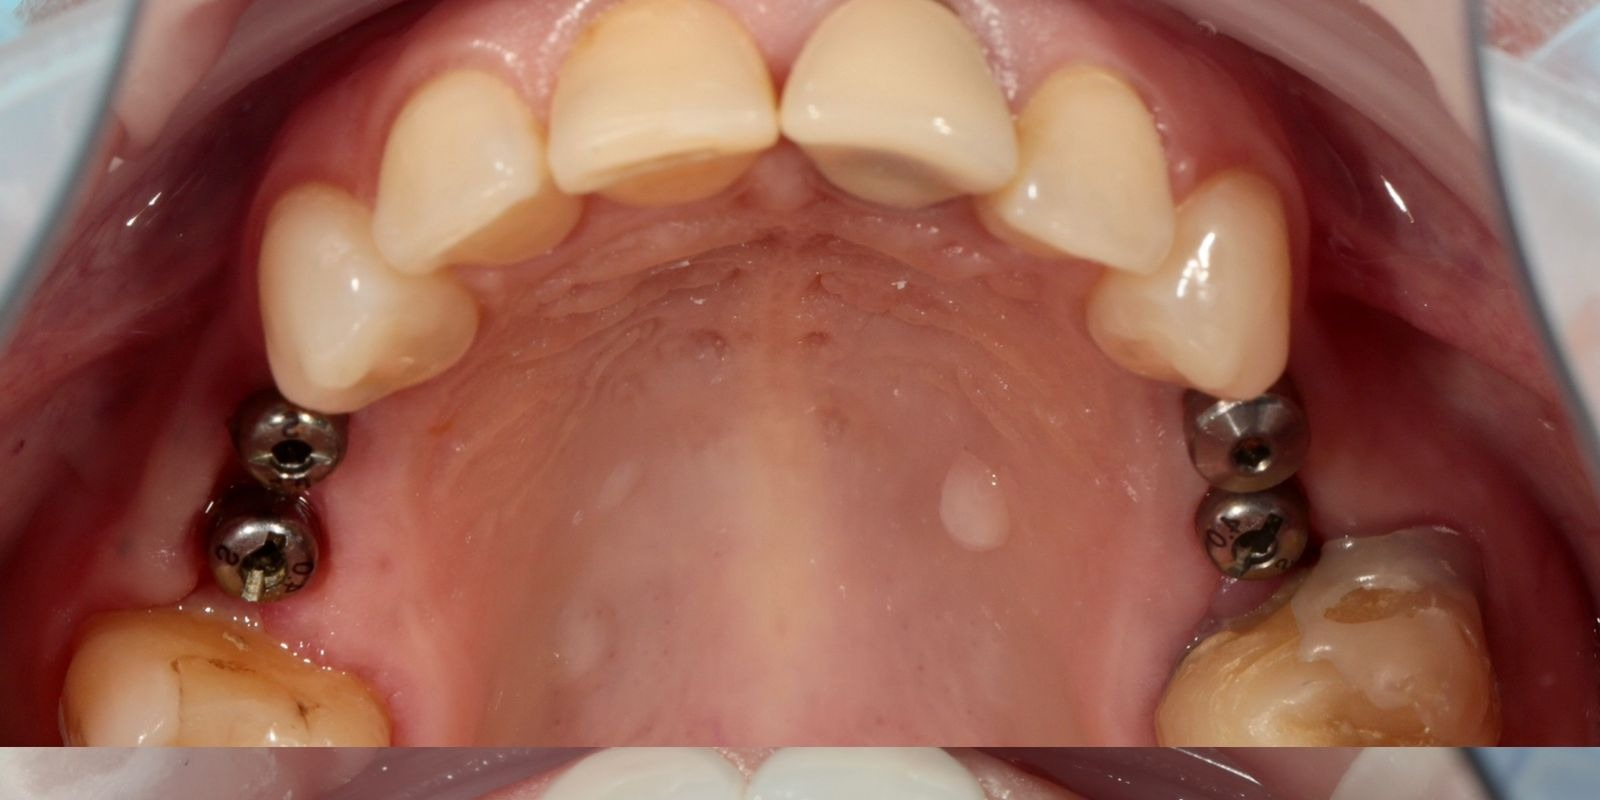ULCI_healthy: (783, 2, 1021, 209)
ULC_healthy: (1159, 169, 1293, 402)
ULLI_healthy: (1015, 74, 1179, 284)
URCI_healthy: (548, 10, 779, 209)
URC_healthy: (257, 186, 484, 409)
URLI_healthy: (377, 81, 581, 267)
